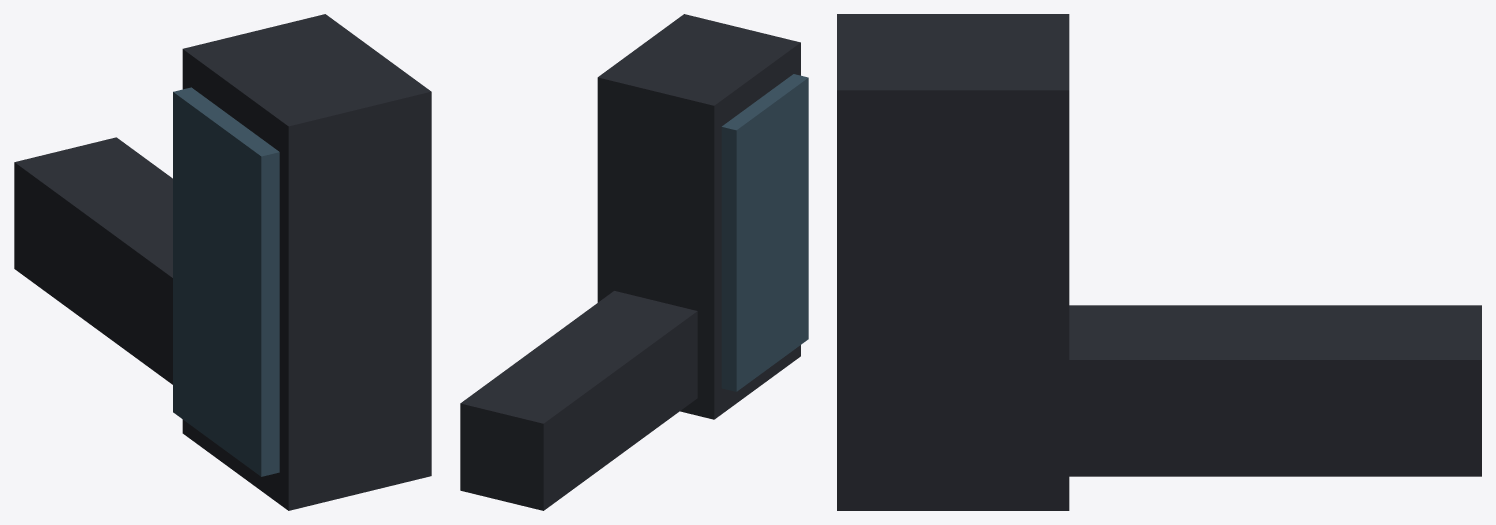
File: mirror_r.obj
3 views of the same model, side by side, from view 1: azimuth 30°, elevation 25°; view 2: azimuth 150°, elevation 25°; view 3: azimuth 270°, elevation 25° (orthographic). The views are drawn at different scales.
Visible parts, largest first — view 1: Cube; view 2: Cube; view 3: Cube.
Boxes of the visible parts, left/top/right/bottom form: Cube: left=14, top=14, right=431, bottom=510; Cube: left=460, top=14, right=808, bottom=510; Cube: left=837, top=14, right=1481, bottom=510.
Bounding box in the file's own units: 0.079 × 0.18 × 0.25.
